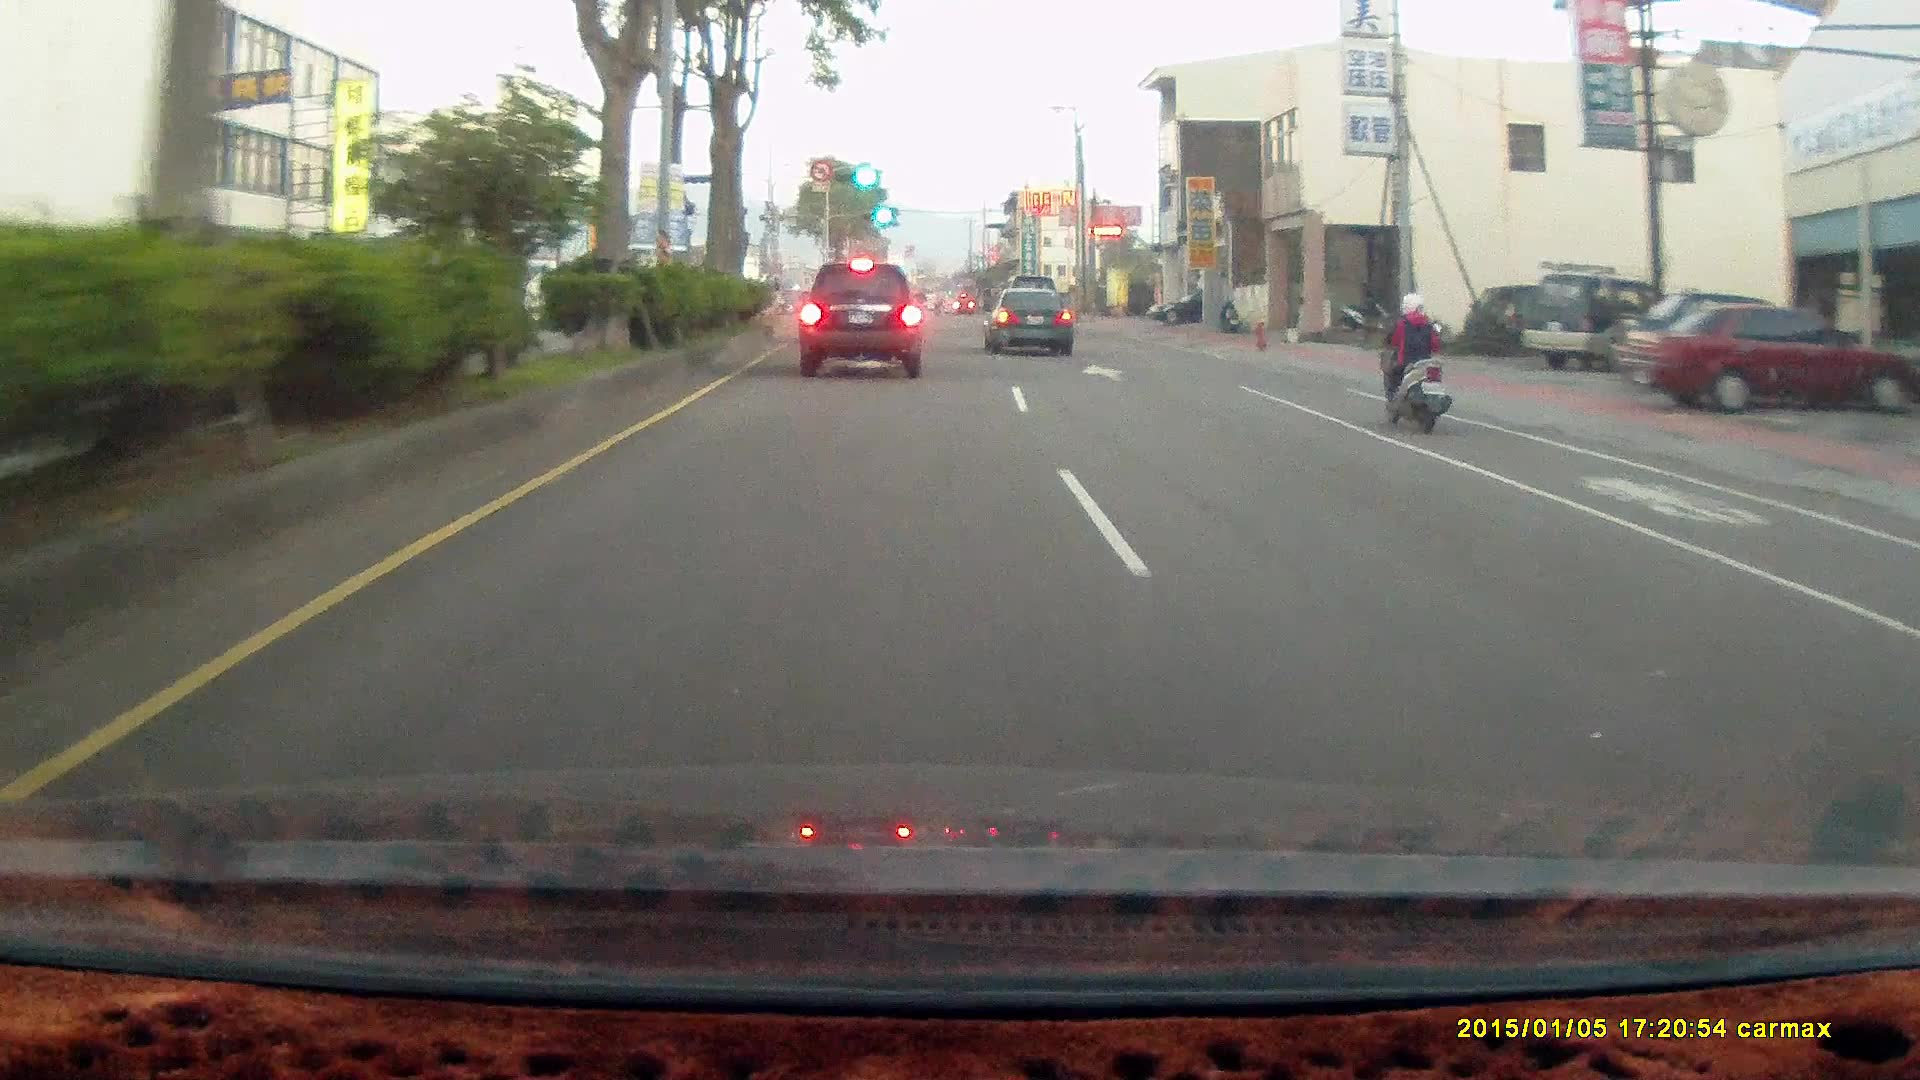rider: (1364, 282, 1465, 443), (1374, 285, 1451, 428)
vehicle: (1624, 297, 1920, 422), (1616, 302, 1920, 415), (1519, 273, 1682, 373), (802, 256, 927, 373), (799, 261, 924, 378), (1520, 269, 1667, 368), (1460, 282, 1557, 351), (983, 284, 1073, 353), (983, 287, 1076, 355), (1146, 288, 1234, 323), (1146, 288, 1203, 327)
